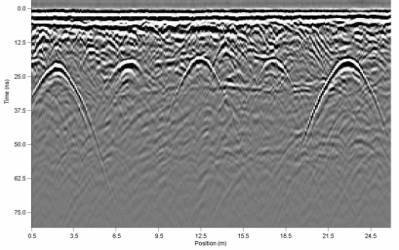hyperbola: (31, 60, 106, 171), (301, 56, 388, 143), (171, 57, 229, 104), (105, 59, 149, 88), (255, 58, 292, 86)
